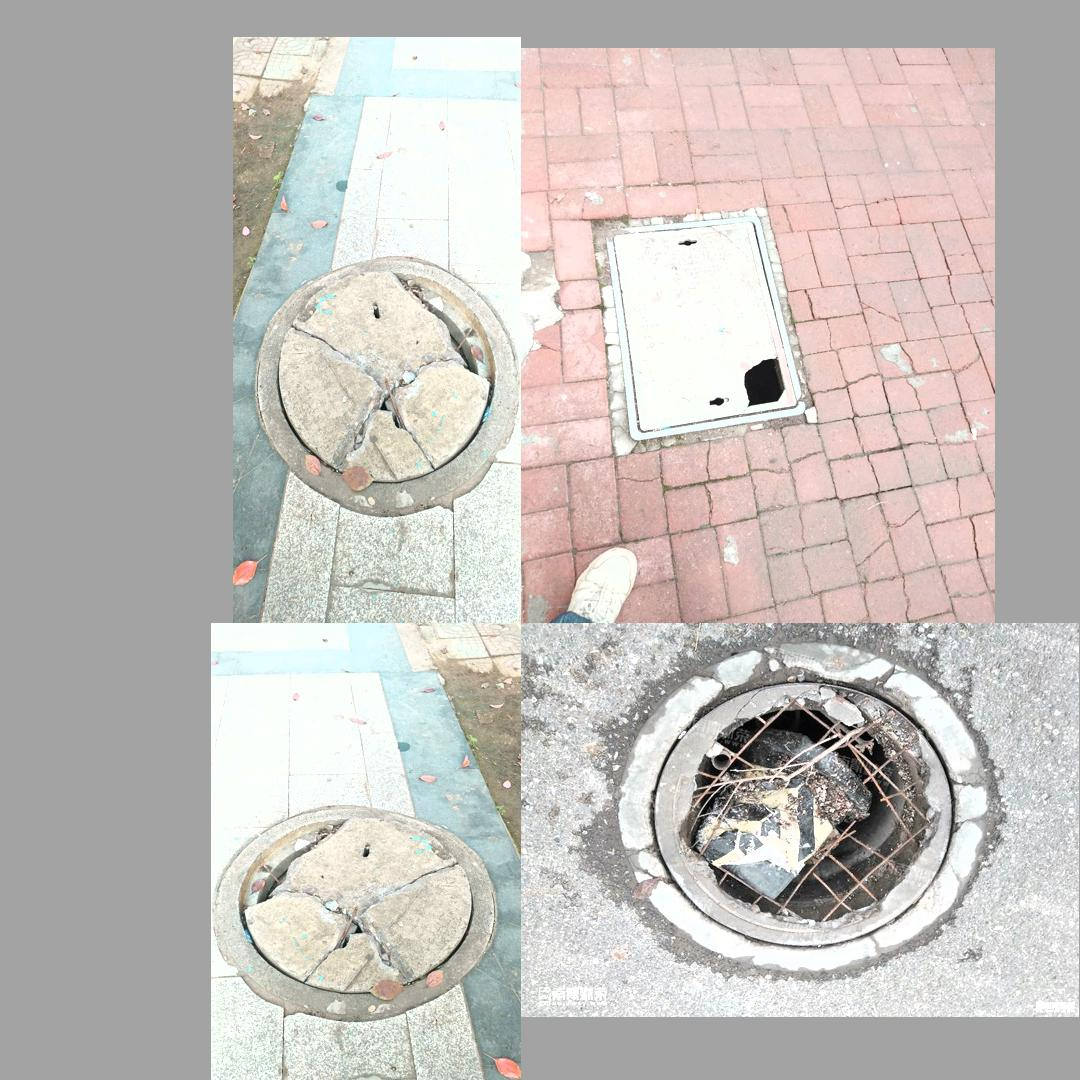broke: (592, 637, 1008, 981), (257, 257, 518, 519), (212, 800, 500, 1025), (603, 216, 806, 440)
